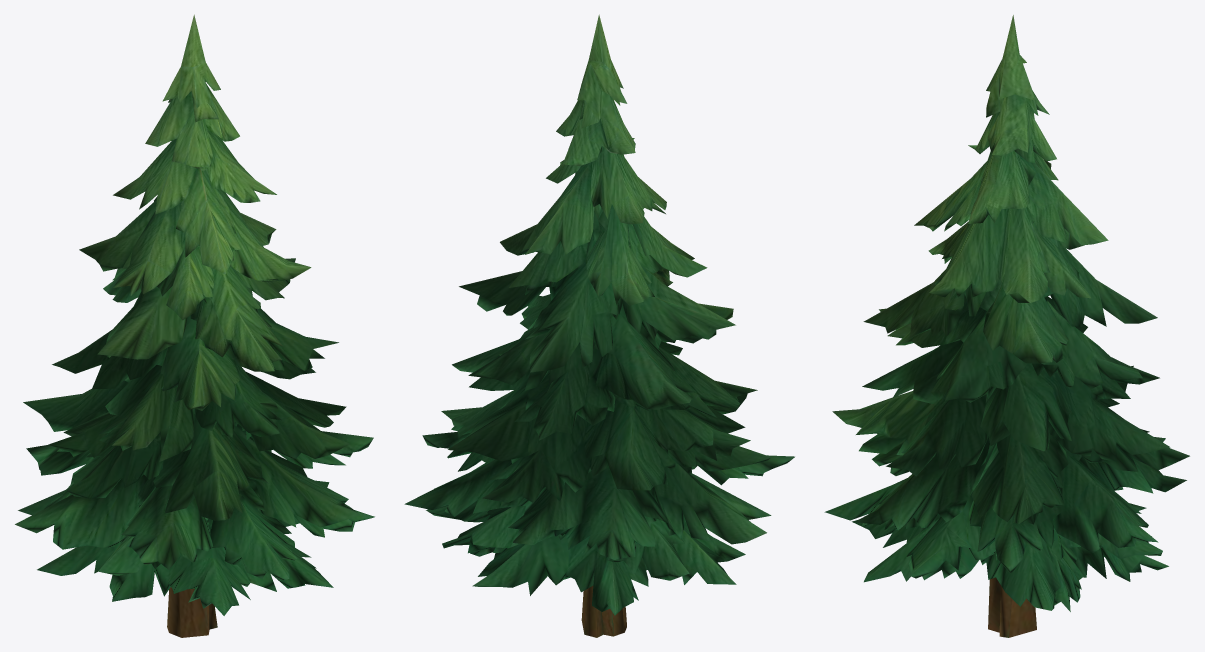
The model's file is tree_fir.glb.
3 views of the same model, side by side, from view 1: azimuth 30°, elevation 25°; view 2: azimuth 150°, elevation 25°; view 3: azimuth 270°, elevation 25° (orthographic).
Visible parts, largest first — view 1: plant; view 2: plant; view 3: plant.
Boxes of the visible parts, <box> form: plant: <box>15,14,374,637</box>; plant: <box>404,14,794,637</box>; plant: <box>824,15,1189,637</box>.
Bounding box in the file's own units: 3.61 × 6 × 3.24.
Materials: 1 (1 with a texture image).
